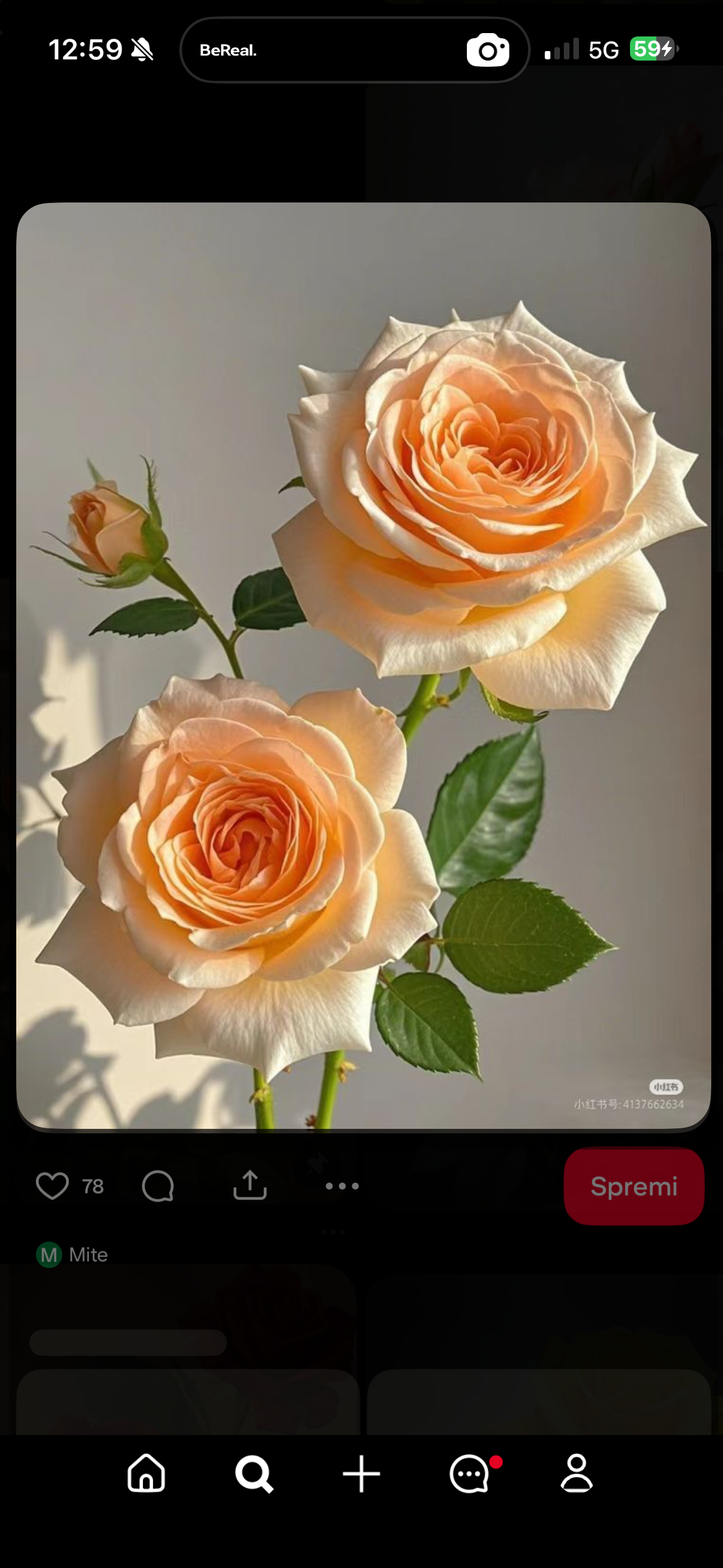rose: (265, 297, 712, 718), (34, 672, 441, 1081)
